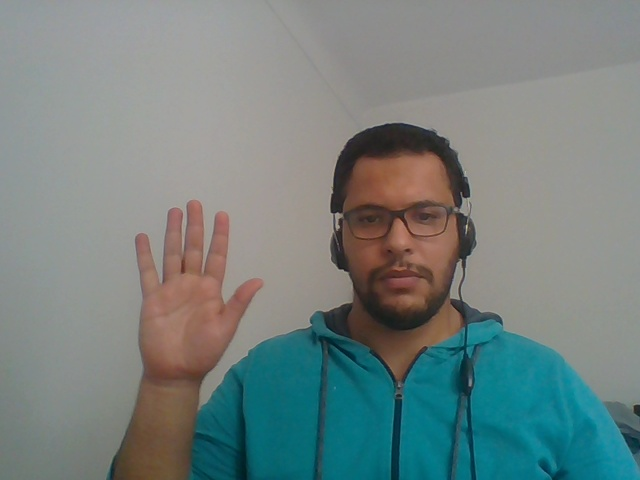hello: (96, 175, 268, 412)
